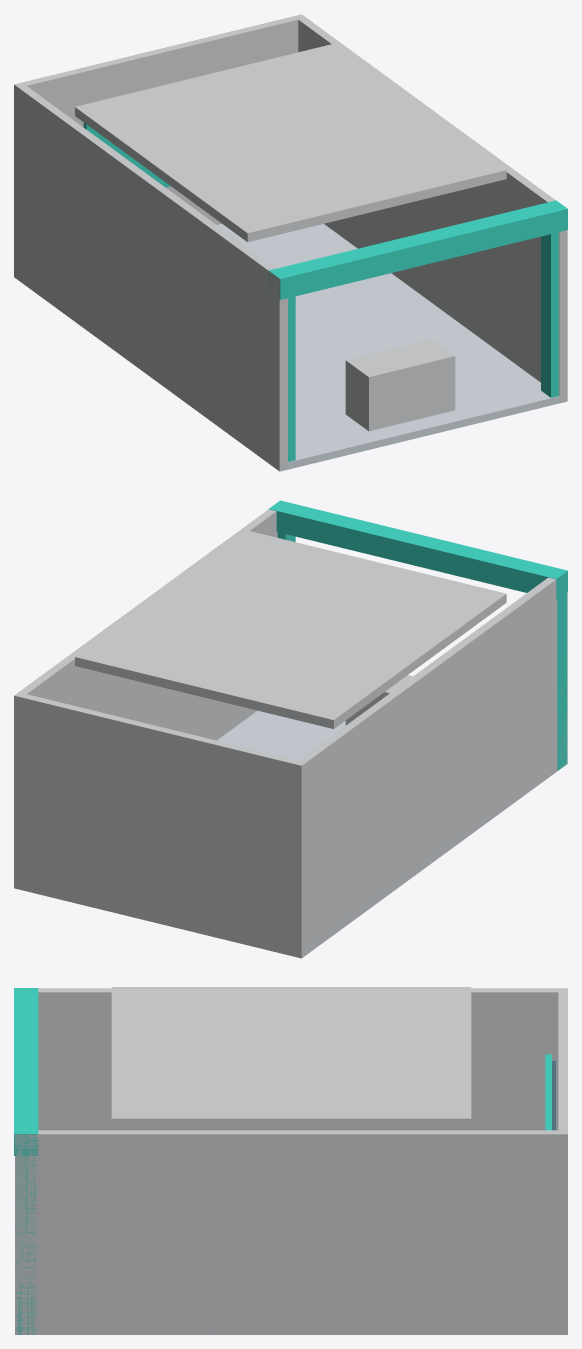
The picture shows the model from 3 angles, top to bottom: view 1: azimuth 30°, elevation 25°; view 2: azimuth 150°, elevation 25°; view 3: azimuth 270°, elevation 25°; orthographic projection. The views are drawn at different scales.
Visible parts, largest first — view 1: Exhibition Booth Concept; view 2: Exhibition Booth Concept; view 3: Exhibition Booth Concept.
Part boxes in pixels (box(x1,y1,x2,y2)): Exhibition Booth Concept: box(14, 14, 567, 471); Exhibition Booth Concept: box(14, 500, 567, 958); Exhibition Booth Concept: box(14, 987, 567, 1334).
Size of the model in its own units: 5 by 3.34 by 8.01.
